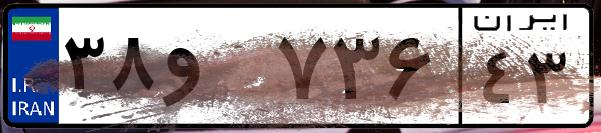3: (330, 28, 385, 110), (57, 26, 110, 100), (525, 38, 570, 115)
4: (475, 38, 525, 113)
6: (385, 28, 445, 110)
7: (270, 28, 330, 110)
8: (110, 28, 158, 98)
و: (158, 20, 270, 120)
